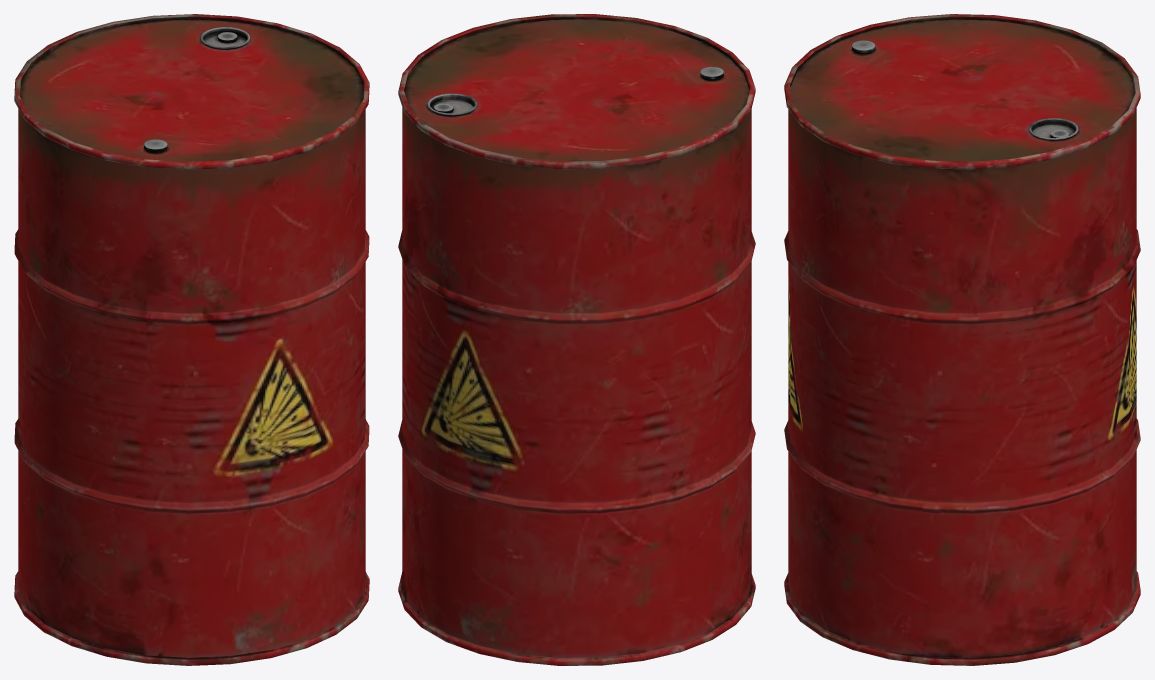
The model's file is Barrel_01.glb.
3 views of the same model, side by side, from view 1: azimuth 30°, elevation 25°; view 2: azimuth 150°, elevation 25°; view 3: azimuth 270°, elevation 25° (orthographic).
Visible parts, largest first — view 1: Barrel_01; view 2: Barrel_01; view 3: Barrel_01.
Part boxes in pixels (box(x1,y1,x2,y2)): Barrel_01: box(14, 14, 369, 665); Barrel_01: box(398, 14, 755, 665); Barrel_01: box(784, 14, 1140, 665).
Size of the model in its own units: 0.5631 by 0.88 by 0.5631.
Materials: 1 (1 with a texture image).
